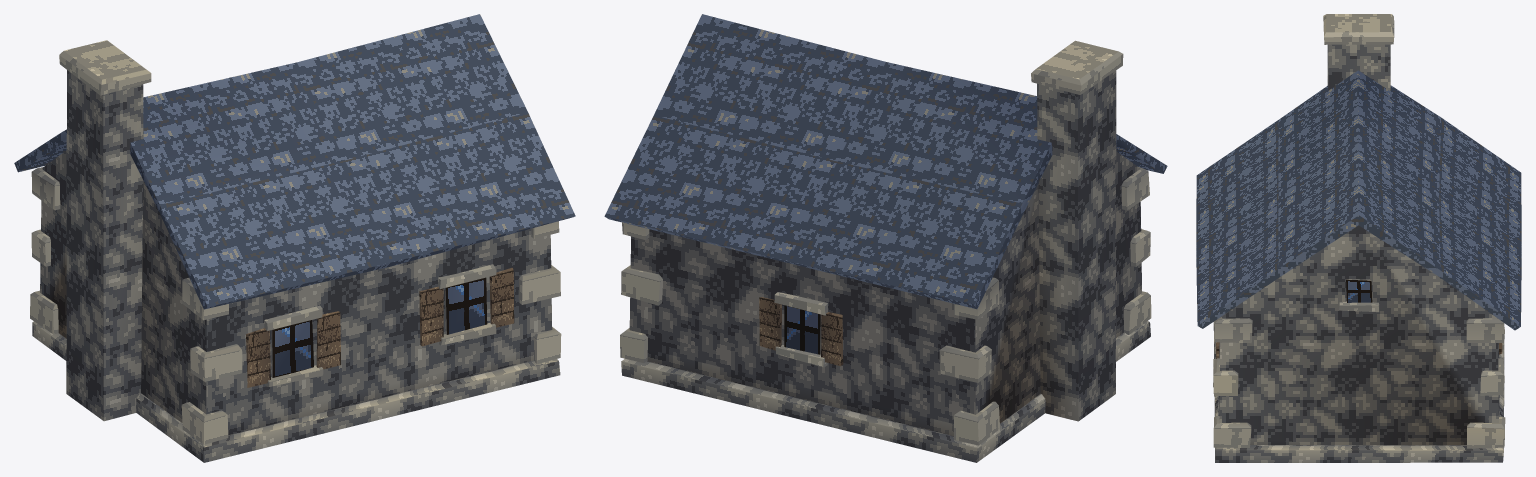
The model's file is vlg.cottage__stone_doorway.glb.
3 renders of one model, left to right at view 1: azimuth 30°, elevation 25°; view 2: azimuth 150°, elevation 25°; view 3: azimuth 270°, elevation 25°, orthographic. The views are drawn at different scales.
Parts seen in each view (by area): view 1: kit_roof, kit_stonework, kit_walls, kit_fittings; view 2: kit_roof, kit_walls, kit_stonework, kit_fittings; view 3: kit_roof, kit_walls, kit_stonework, kit_fittings.
Boxes of the visible parts, box(x1,y1,x2,y2) form: kit_roof: box(14, 14, 575, 309); kit_stonework: box(30, 40, 561, 462); kit_walls: box(40, 150, 552, 435); kit_fittings: box(246, 264, 514, 387); kit_roof: box(604, 14, 1167, 309); kit_walls: box(629, 151, 1141, 435); kit_stonework: box(620, 40, 1151, 462); kit_fittings: box(759, 292, 843, 367); kit_roof: box(1196, 70, 1521, 330); kit_walls: box(1219, 225, 1498, 445); kit_stonework: box(1213, 14, 1505, 462); kit_fittings: box(1213, 279, 1504, 387).
Bounding box in the file's own units: 6.95 × 5.67 × 5.81.
5 materials, 5 textured.
